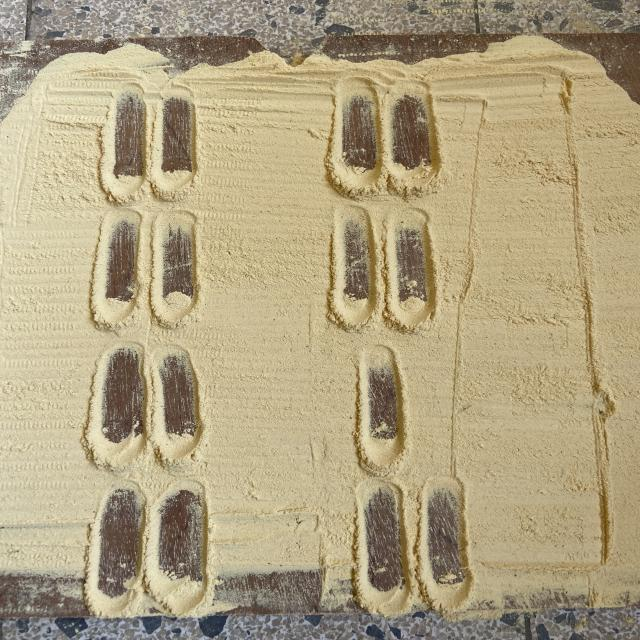double: (83, 482, 217, 614), (350, 478, 474, 613), (83, 344, 209, 471), (323, 74, 447, 198), (324, 204, 440, 334), (87, 210, 205, 328), (98, 88, 202, 204)
single: (348, 338, 409, 476)
